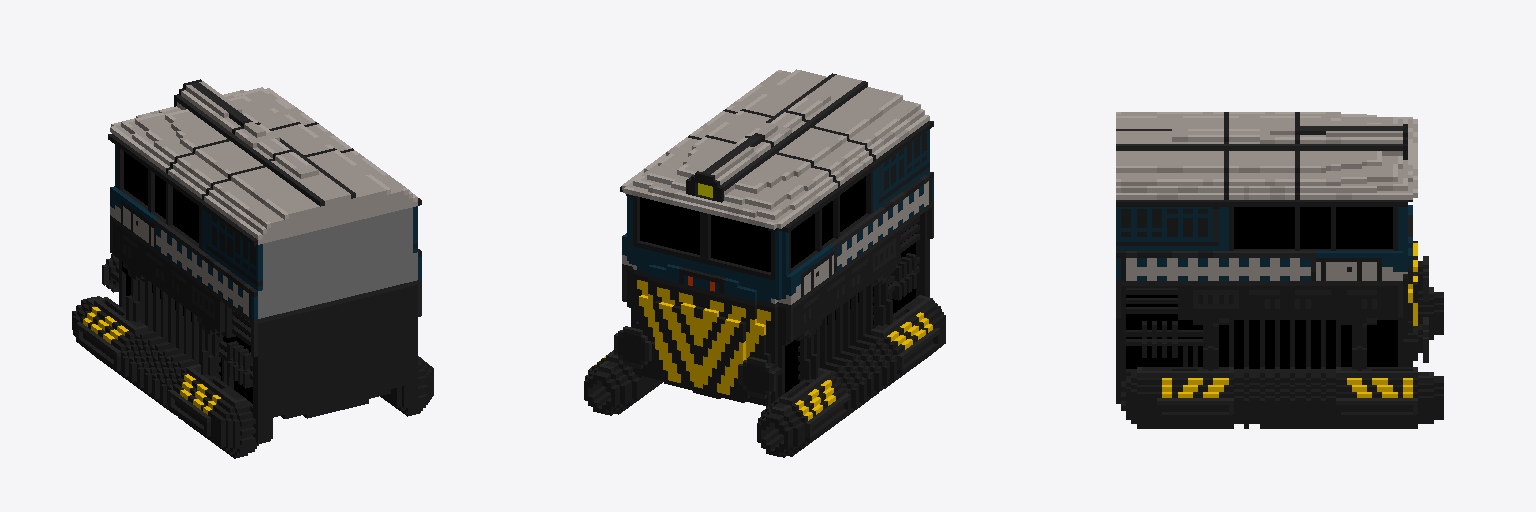
3 renders of one model, left to right at view 1: azimuth 30°, elevation 25°; view 2: azimuth 150°, elevation 25°; view 3: azimuth 270°, elevation 25°, orthographic.
Parts seen in each view (by area): view 1: object 1; view 2: object 1; view 3: object 1.
Boxes of the visible parts, <box> form: object 1: <box>72,79,433,458</box>; object 1: <box>584,69,945,457</box>; object 1: <box>1116,112,1443,428</box>.
Size of the model in its own units: 5 by 5.5 by 6.4.
Materials: 1 (1 with a texture image).